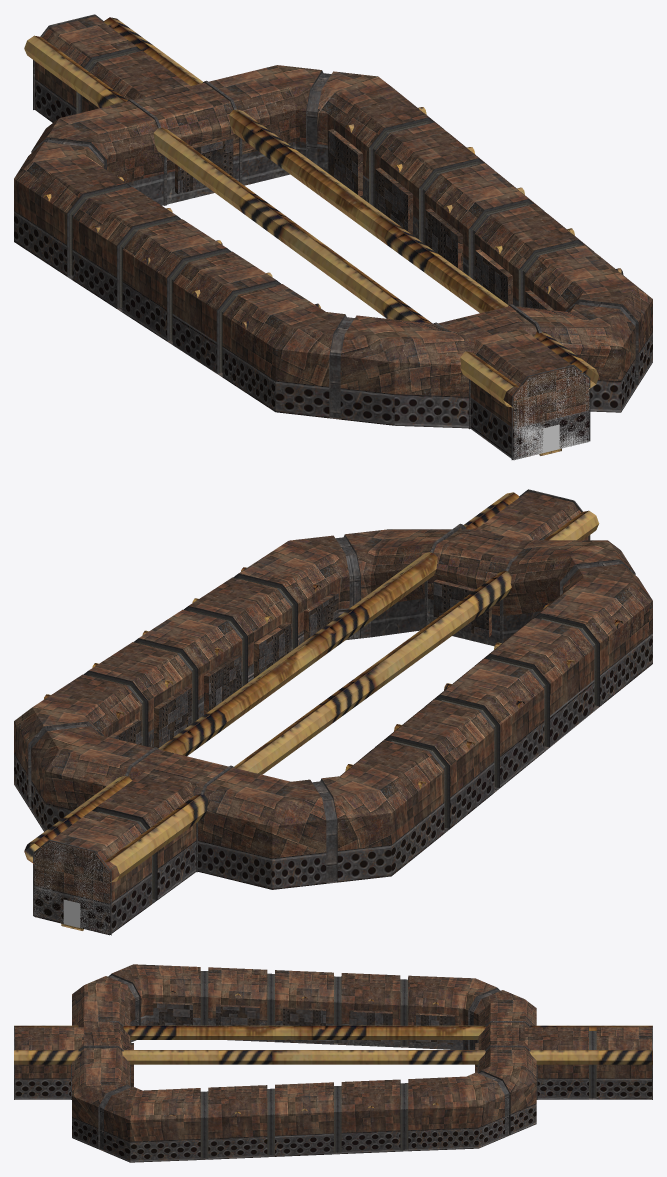
Rendered from Crossroads.fbx.
3 renders of one model, top to bottom at view 1: azimuth 30°, elevation 25°; view 2: azimuth 150°, elevation 25°; view 3: azimuth 270°, elevation 25°, orthographic. The views are drawn at different scales.
Parts seen in each view (by area): view 1: Plane, Circle.001, Circle, Plane.007, Plane.010, Plane.017, Plane.013, Plane.015, Plane.014, Plane.001, Plane.011, Plane.012 (+1 smaller); view 2: Plane, Circle.001, Circle, Plane.007, Plane.010, Plane.012, Plane.001, Plane.011, Plane.017, Plane.014, Plane.013, Plane.015 (+2 smaller); view 3: Plane, Circle, Circle.001, Plane.007, Plane.013, Plane.016, Plane.015, Plane.014, Plane.017, Plane.012, Plane.001, Plane.011 (+1 smaller).
Boxes of the visible parts, x1=… form: Plane: x1=14, y1=16, x2=652, y2=460; Circle.001: x1=24, y1=35, x2=520, y2=407; Circle: x1=104, y1=17, x2=599, y2=388; Plane.007: x1=31, y1=70, x2=638, y2=418; Plane.010: x1=513, y1=367, x2=589, y2=459; Plane.017: x1=216, y1=280, x2=281, y2=373; Plane.013: x1=369, y1=117, x2=443, y2=206; Plane.015: x1=468, y1=199, x2=543, y2=279; Plane.014: x1=419, y1=158, x2=493, y2=243; Plane.001: x1=167, y1=248, x2=231, y2=341; Plane.011: x1=117, y1=215, x2=181, y2=308; Plane.012: x1=67, y1=183, x2=131, y2=276; Plane: x1=14, y1=491, x2=652, y2=935; Circle.001: x1=103, y1=510, x2=599, y2=882; Circle: x1=24, y1=492, x2=519, y2=863; Plane.007: x1=28, y1=534, x2=635, y2=882; Plane.010: x1=34, y1=842, x2=109, y2=934; Plane.012: x1=375, y1=735, x2=450, y2=828; Plane.001: x1=475, y1=654, x2=549, y2=747; Plane.011: x1=425, y1=694, x2=499, y2=787; Plane.017: x1=525, y1=613, x2=599, y2=706; Plane.014: x1=133, y1=638, x2=198, y2=723; Plane.013: x1=83, y1=670, x2=148, y2=746; Plane.015: x1=183, y1=606, x2=247, y2=686; Plane: x1=15, y1=964, x2=651, y2=1162; Circle: x1=14, y1=1050, x2=652, y2=1064; Circle.001: x1=14, y1=1025, x2=652, y2=1039; Plane.007: x1=98, y1=973, x2=510, y2=1150; Plane.013: x1=400, y1=1080, x2=408, y2=1150; Plane.016: x1=200, y1=1091, x2=208, y2=1158; Plane.015: x1=267, y1=1088, x2=274, y2=1155; Plane.014: x1=334, y1=1086, x2=341, y2=1152; Plane.017: x1=200, y1=971, x2=208, y2=1025; Plane.012: x1=400, y1=977, x2=408, y2=1046; Plane.001: x1=267, y1=973, x2=274, y2=1040; Plane.011: x1=334, y1=976, x2=341, y2=1043.
Bounding box in the file's own units: 60 × 18.4 × 132.
Materials: 10 (9 with a texture image).
